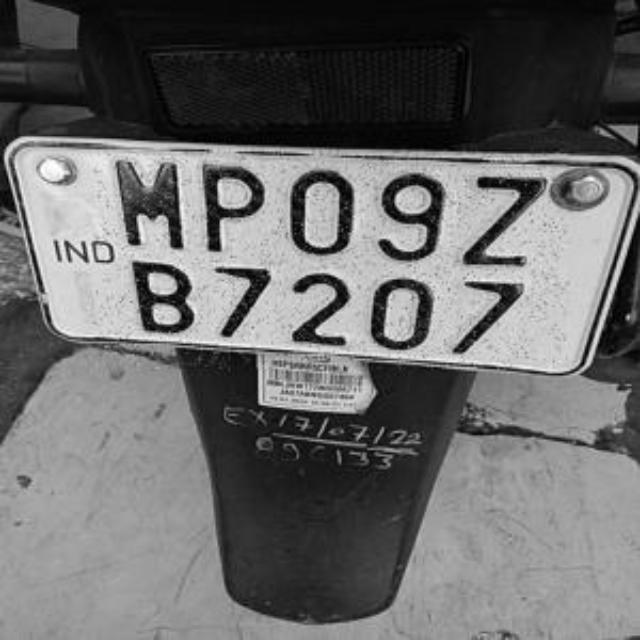License Plate: (96, 150, 568, 368)
